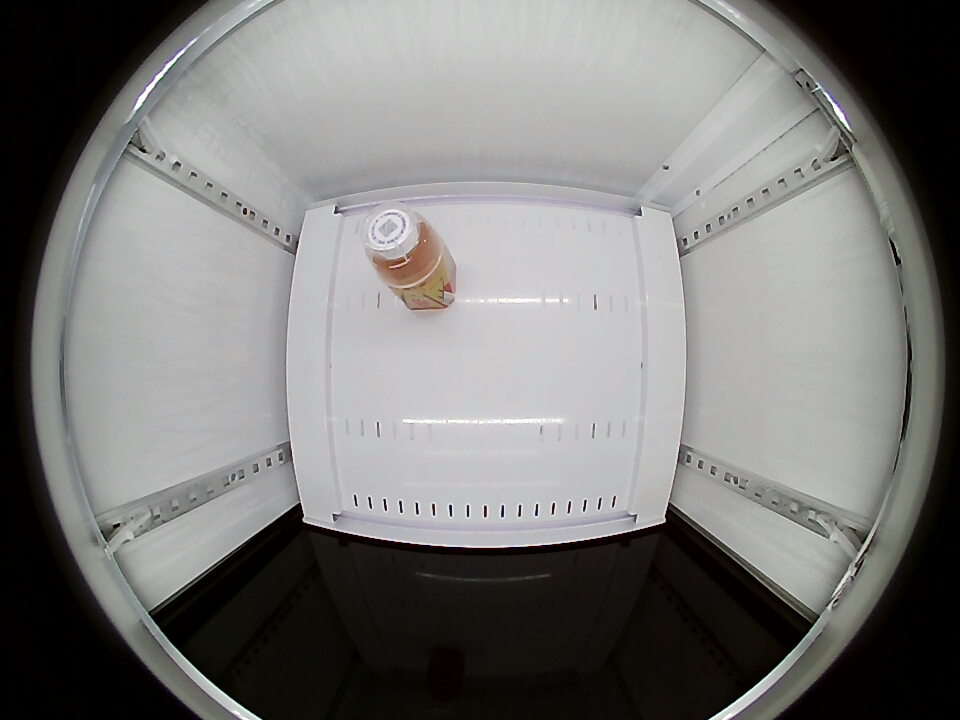dongpeng-b: (362, 206, 444, 286)
